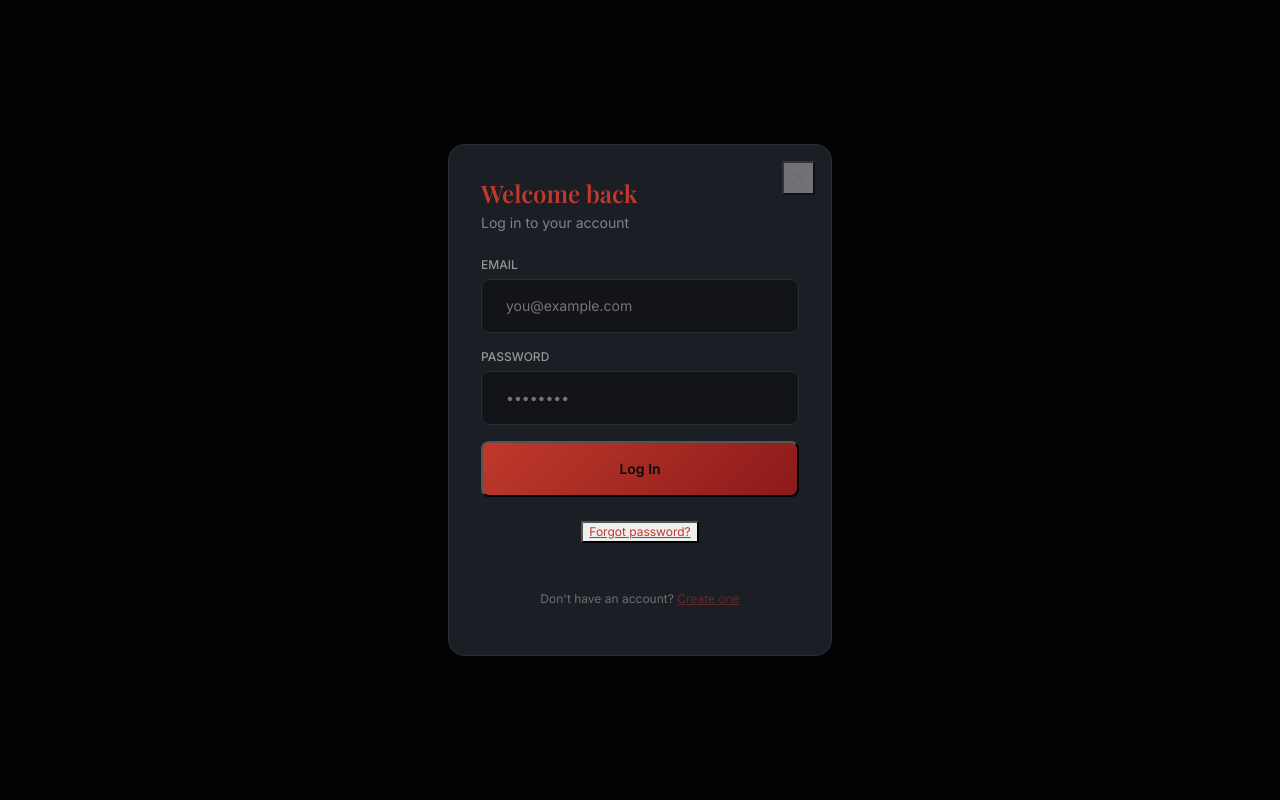
Test: Login popup › a failure with no message shows a general error
In the field labelled "EMAIL": {"x": 640, "y": 306} 481,279 -> 799,333, type "preston@example.com"
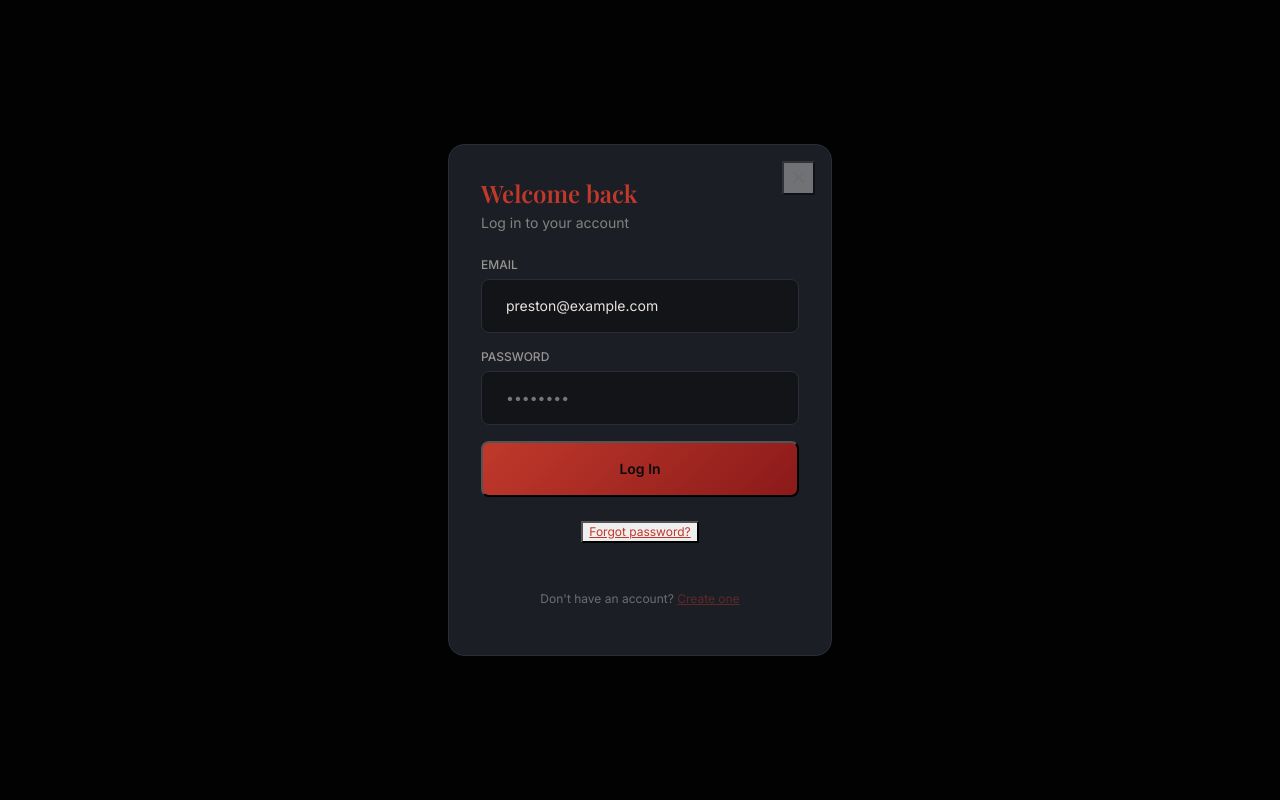
In the password field labelled "PASSWORD": {"x": 640, "y": 398} 481,371 -> 799,425, type "password123"
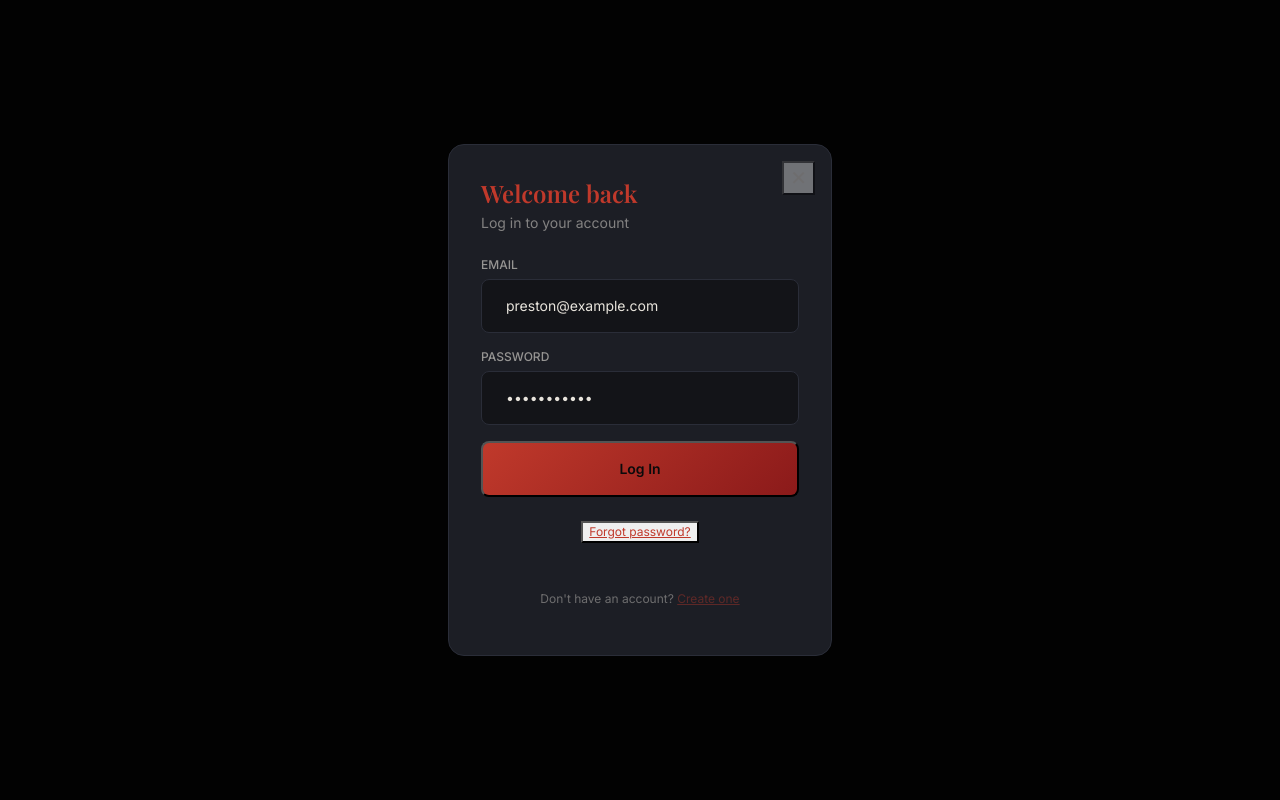
Click the button "Log In": {"x": 640, "y": 469} 481,441 -> 799,497
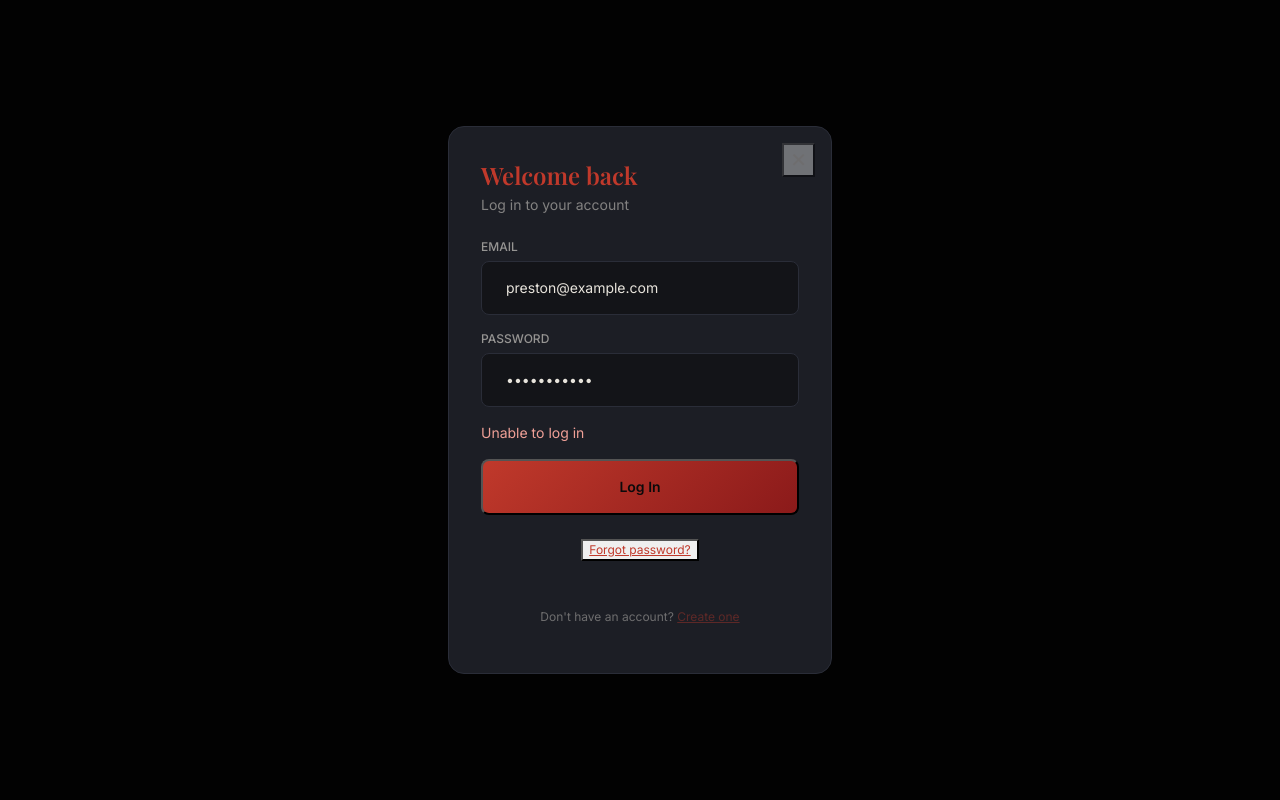
Result: the message reads "Unable to log in" at 481,424 -> 584,441
